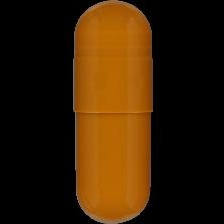50268-620: (0, 0, 224, 224)
